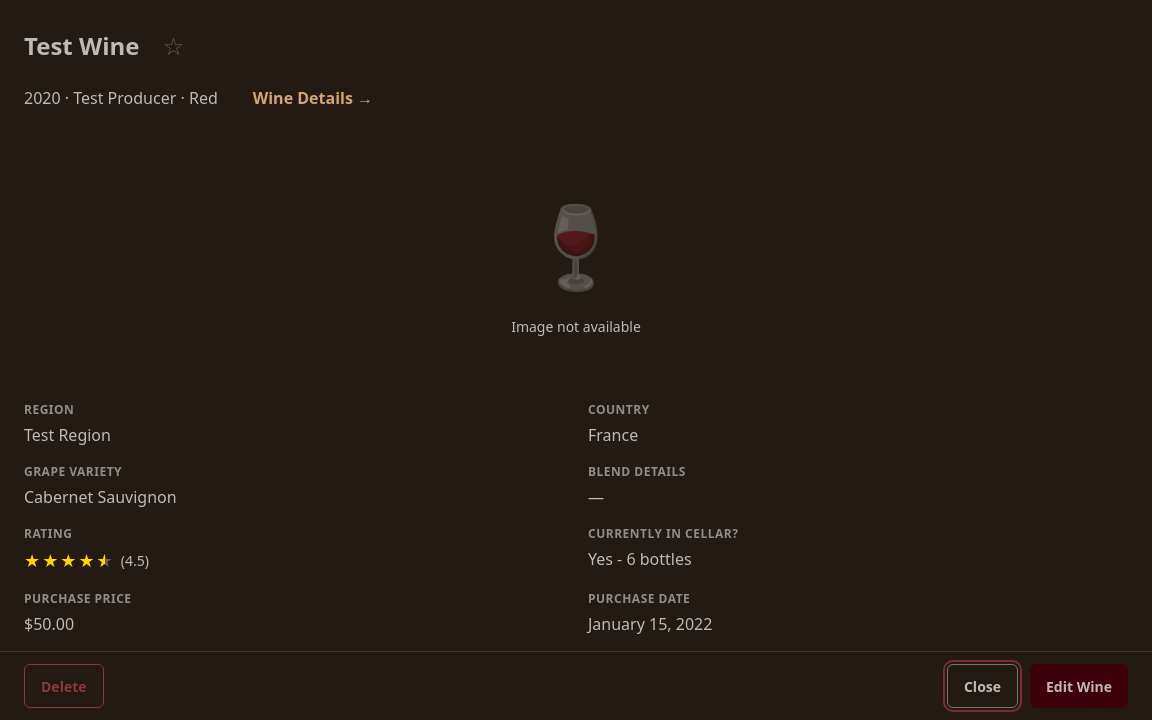
Scenario: WineDetailModal Accessibility & Loading States › LoadingSpinner in save button › shows LoadingSpinner when saving
What coordinates should you click on to do the following:
click the button "Edit Wine"
I would click on:
 (1079, 686)
Its box is 1030,664 -> 1128,708.
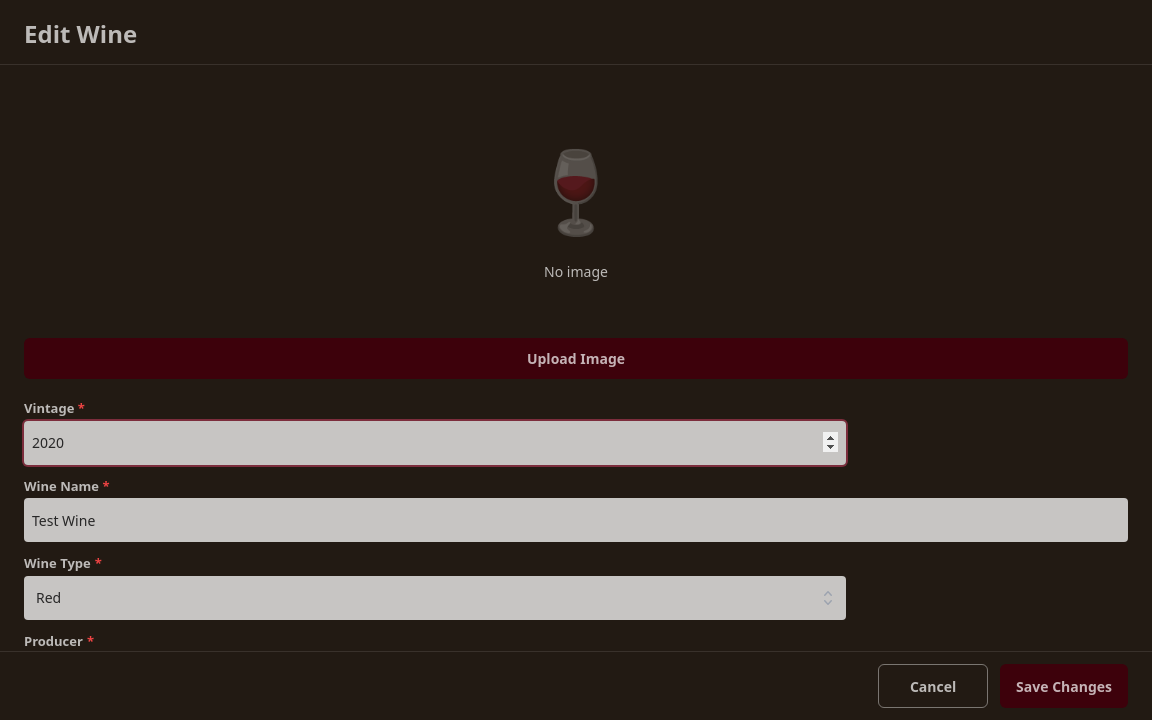
What coordinates should you click on to do the following:
click the button "Save Changes"
I would click on:
 (1064, 686)
Its box is 1000,664 -> 1128,708.
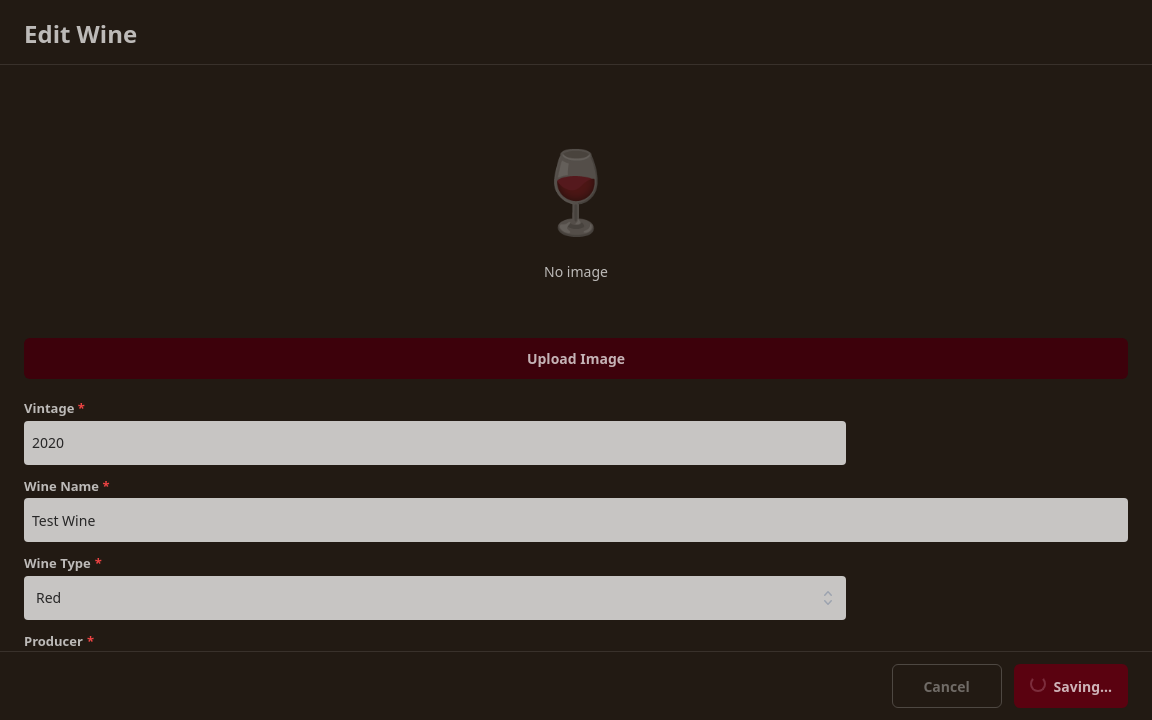
Check: the button "Saving..." is shown, box 1014,664 -> 1128,708
Check: the message named "Loading" is shown, box 1030,676 -> 1046,692
